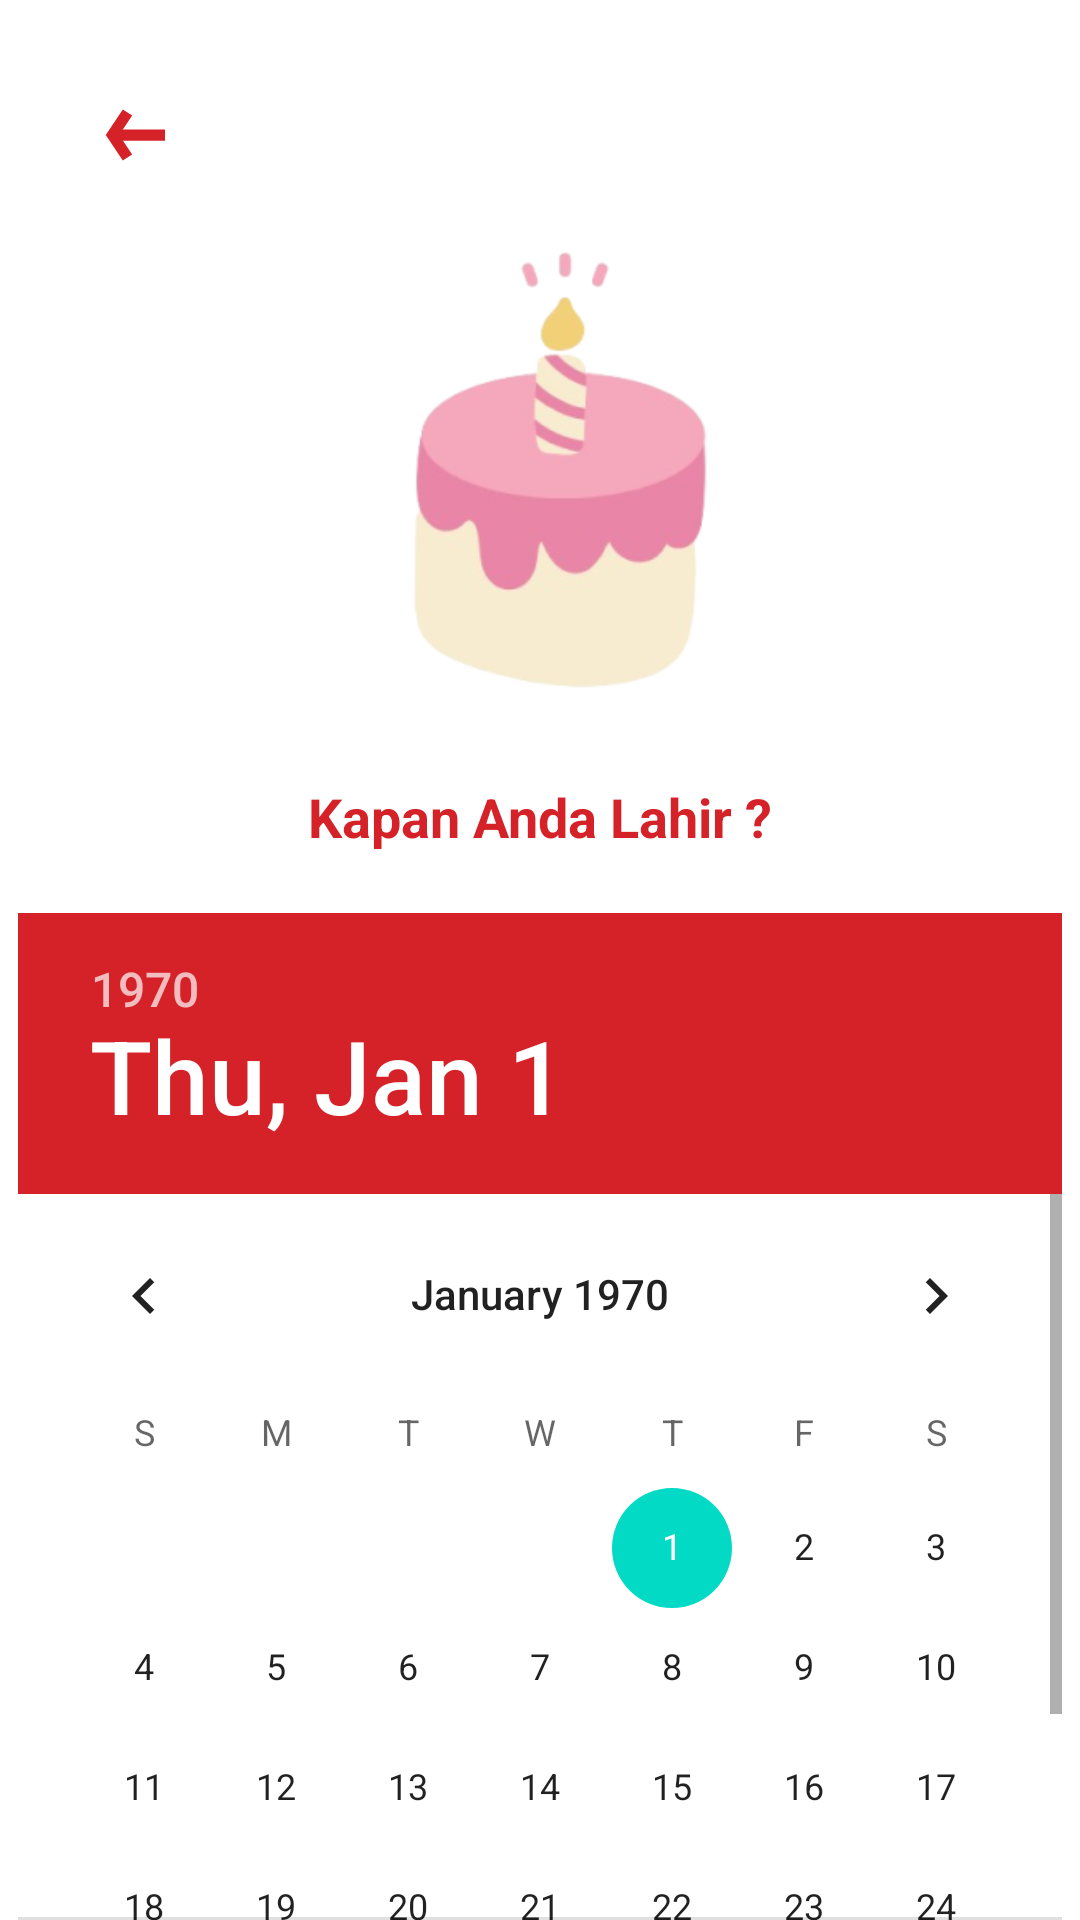

Icons on this 1080 × 1920 Android screen, each with the point to tap as (x,y):
back: (135,135)
